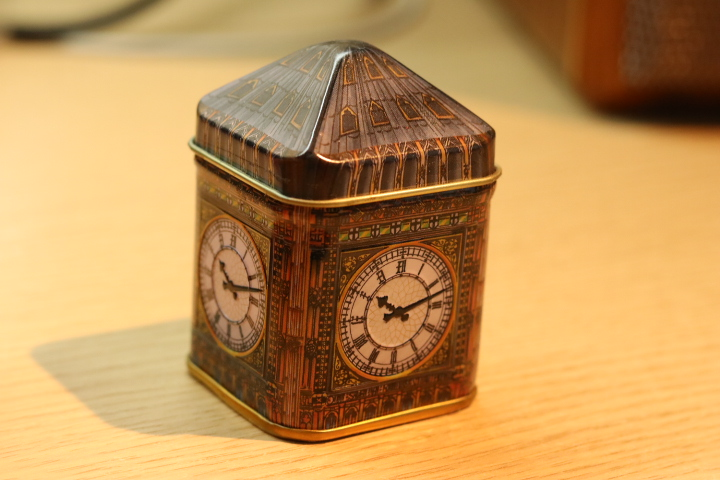Big Ben: (169, 31, 507, 456)
